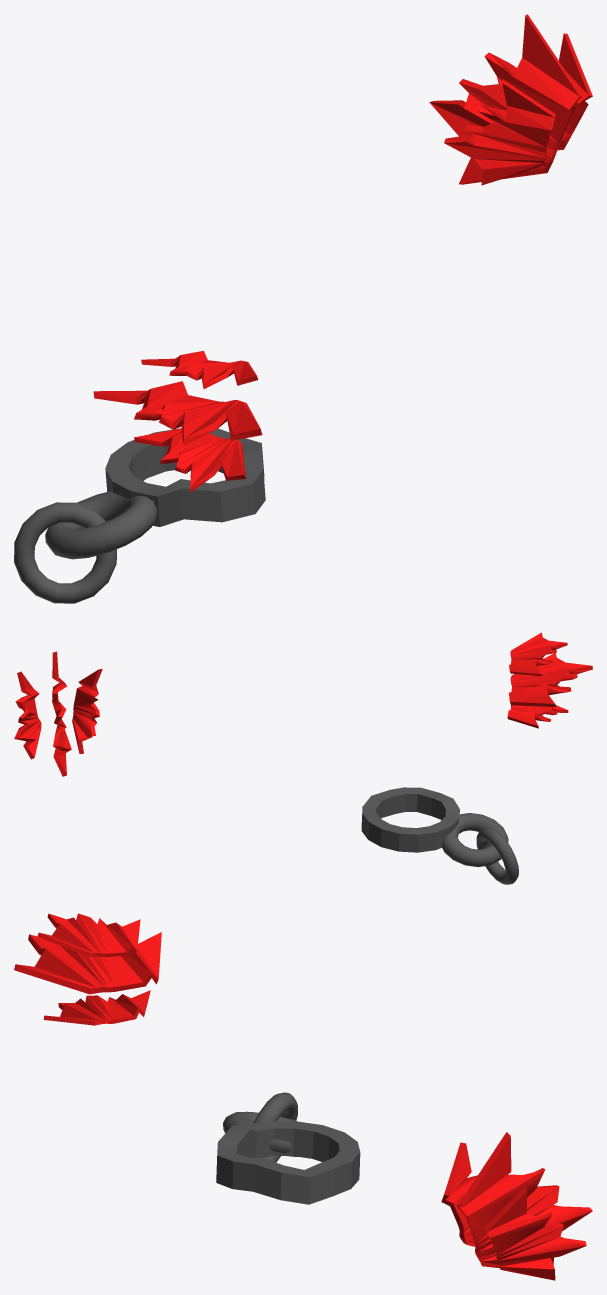
3 renders of one model, top to bottom at view 1: azimuth 30°, elevation 25°; view 2: azimuth 150°, elevation 25°; view 3: azimuth 270°, elevation 25°, orthographic. The views are drawn at different scales.
Parts seen in each view (by area): view 1: hand_decor, hand_decor_001, feet_decor.001, Torus_001, Torus; view 2: feet_decor.001, hand_decor_001, hand_decor, Torus, Torus_001; view 3: hand_decor, hand_decor_001, feet_decor.001, Torus_001, Torus.
Part boxes in pixels (left/top/right/bottom): hand_decor: left=429, top=14, right=592, bottom=185; hand_decor_001: left=93, top=351, right=262, bottom=492; feet_decor.001: left=105, top=428, right=265, bottom=526; Torus_001: left=14, top=502, right=116, bottom=603; Torus: left=45, top=491, right=157, bottom=559; feet_decor.001: left=361, top=787, right=459, bottom=852; hand_decor_001: left=507, top=632, right=592, bottom=728; hand_decor: left=14, top=651, right=102, bottom=776; Torus: left=442, top=813, right=508, bottom=866; Torus_001: left=476, top=827, right=518, bottom=884; hand_decor: left=441, top=1132, right=592, bottom=1280; hand_decor_001: left=14, top=913, right=161, bottom=1025; feet_decor.001: left=216, top=1121, right=360, bottom=1204; Torus_001: left=249, top=1092, right=297, bottom=1162; Torus: left=223, top=1111, right=297, bottom=1156.
Size of the model in its own units: 132 by 109 by 61.4.
